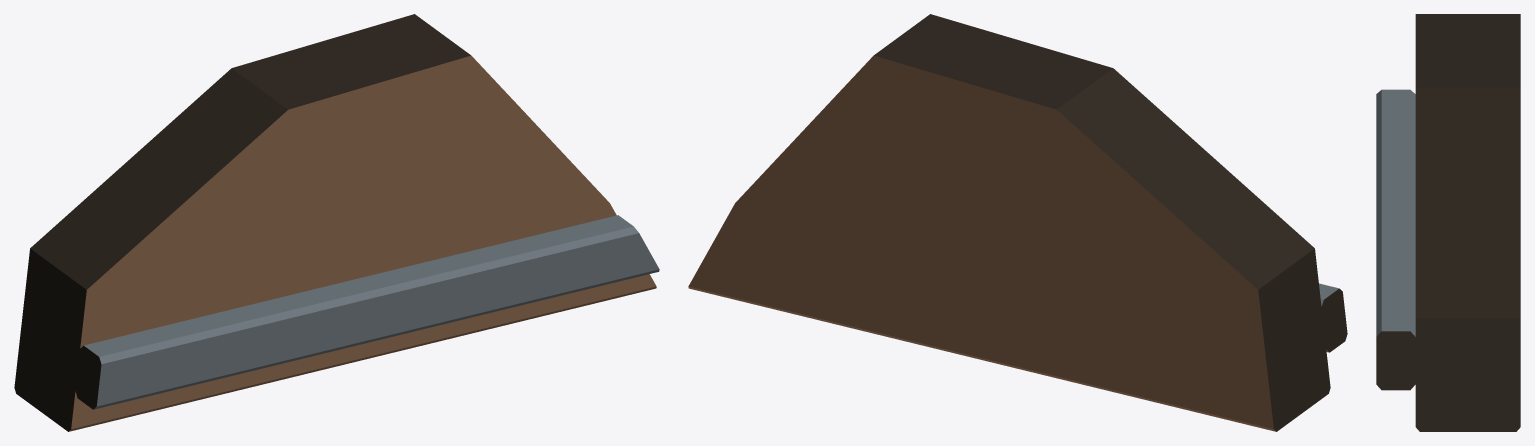
File: SM_DoorShard_02_38.fbx
The picture shows the model from 3 angles, left to right: view 1: azimuth 30°, elevation 25°; view 2: azimuth 150°, elevation 25°; view 3: azimuth 270°, elevation 25°; orthographic projection. The views are drawn at different scales.
Visible parts, largest first — view 1: SM_DoorShard_02_38; view 2: SM_DoorShard_02_38; view 3: SM_DoorShard_02_38.
Part boxes in pixels (x1,y1,x2,y2): SM_DoorShard_02_38: (14,14,659,431); SM_DoorShard_02_38: (688,14,1347,431); SM_DoorShard_02_38: (1376,14,1520,431).
Size of the model in its own units: 95.75 by 22 by 43.62.
